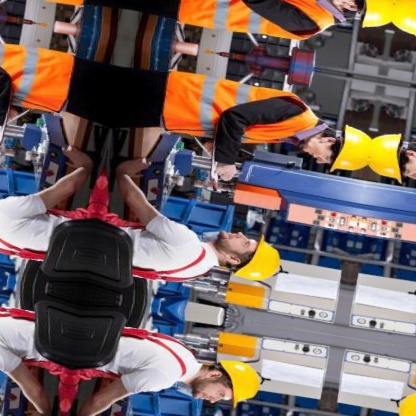vest: (160, 66, 322, 158)
yellow: (231, 226, 288, 288), (326, 119, 374, 188)
